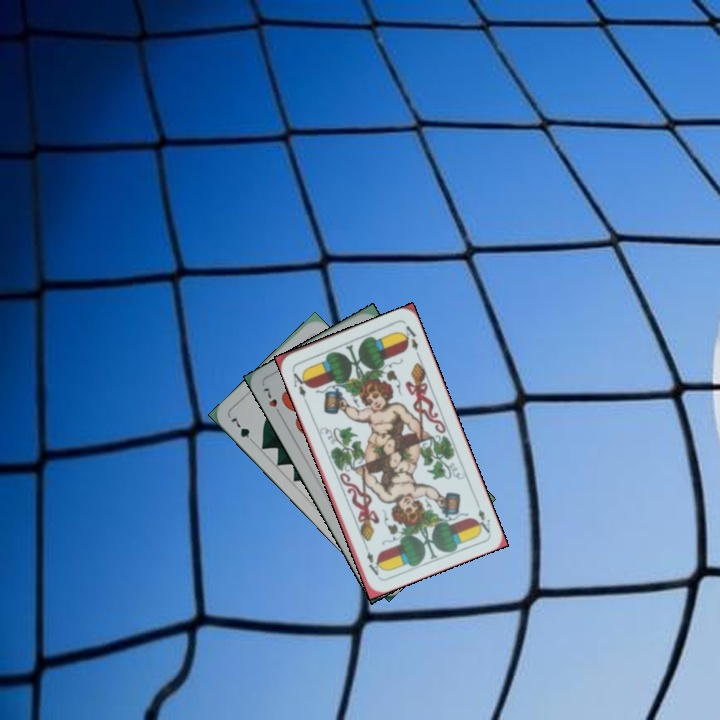EA: (471, 496, 493, 535), (288, 366, 311, 400)
G7: (227, 411, 258, 447)
H7: (259, 382, 285, 420)
